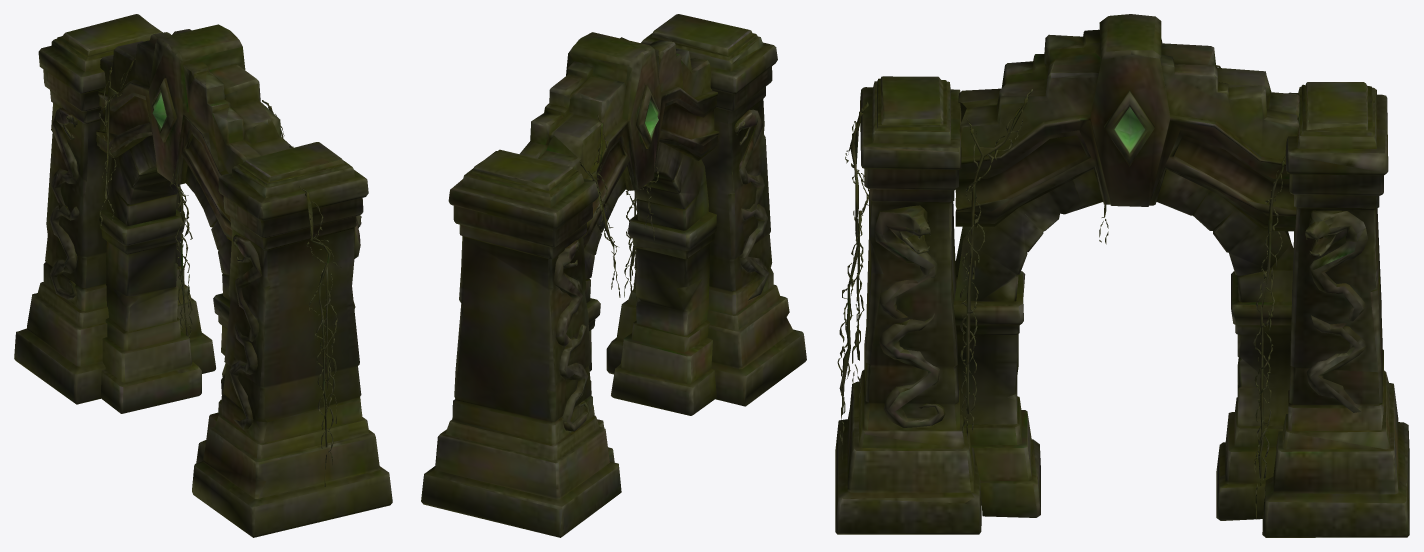
The model's file is templeGate.glb.
The picture shows the model from 3 angles, left to right: view 1: azimuth 30°, elevation 25°; view 2: azimuth 150°, elevation 25°; view 3: azimuth 270°, elevation 25°; orthographic projection. The views are drawn at different scales.
Parts seen in each view (by area): view 1: tripo_node_f4f4af5d-2a64-4b05-9c46-e7aa6c587490; view 2: tripo_node_f4f4af5d-2a64-4b05-9c46-e7aa6c587490; view 3: tripo_node_f4f4af5d-2a64-4b05-9c46-e7aa6c587490.
Boxes of the visible parts, left/top/right/bottom form: tripo_node_f4f4af5d-2a64-4b05-9c46-e7aa6c587490: left=14, top=14, right=392, bottom=537; tripo_node_f4f4af5d-2a64-4b05-9c46-e7aa6c587490: left=421, top=14, right=806, bottom=537; tripo_node_f4f4af5d-2a64-4b05-9c46-e7aa6c587490: left=835, top=14, right=1409, bottom=537.
Bounding box in the file's own units: 0.3457 × 0.8964 × 0.998.
1 material, 1 textured.
